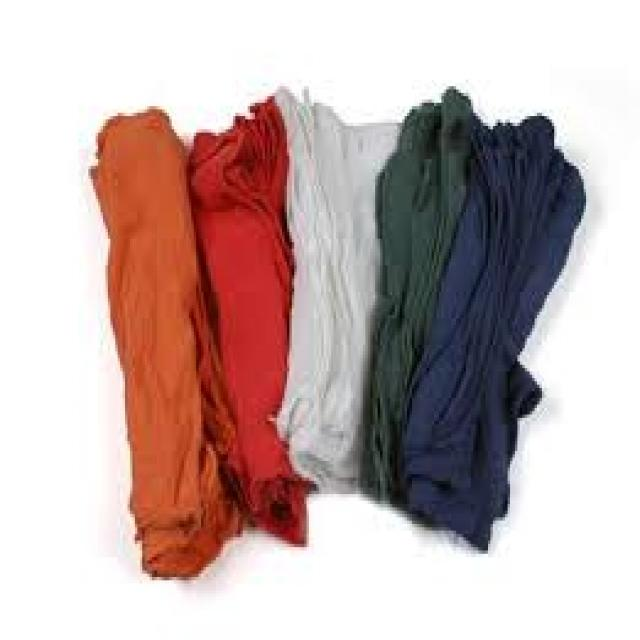Clothes -Biodegradable-: (89, 83, 583, 579)
